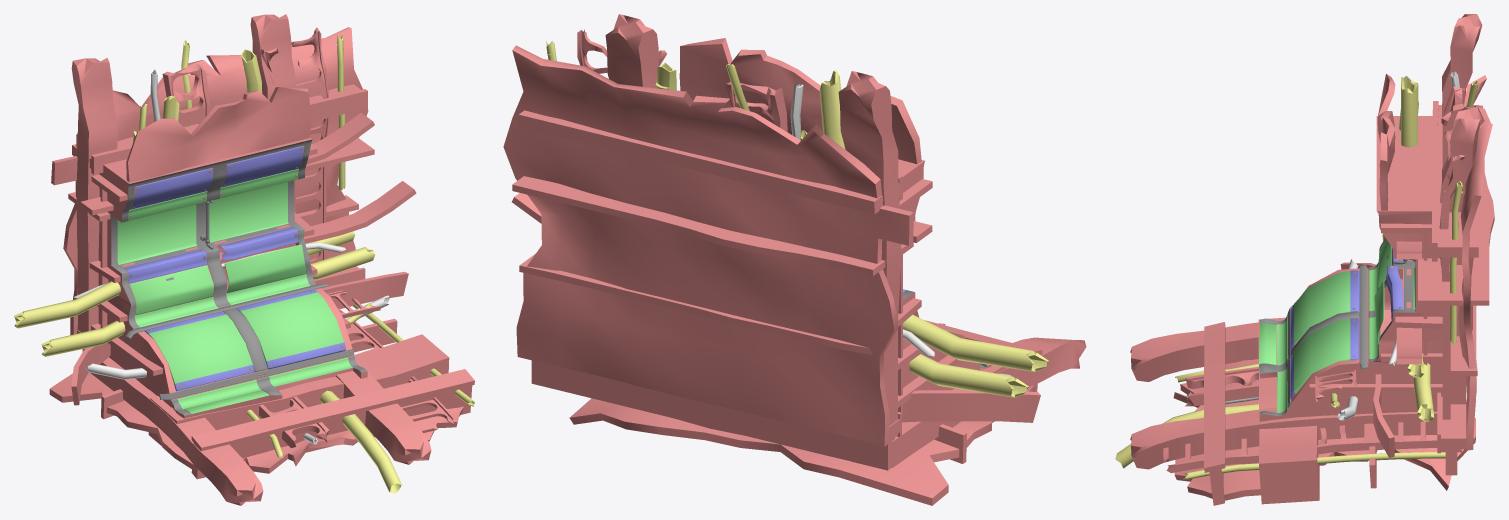
Rendered from SM_CruiserWallWreck_01.gltf.
3 views of the same model, side by side, from view 1: azimuth 30°, elevation 25°; view 2: azimuth 150°, elevation 25°; view 3: azimuth 270°, elevation 25° (orthographic). The views are drawn at different scales.
Visible parts, largest first — view 1: SM_CruiserWallWreck_01; view 2: SM_CruiserWallWreck_01; view 3: SM_CruiserWallWreck_01.
Part boxes in pixels (left/top/right/bottom): SM_CruiserWallWreck_01: left=14, top=14, right=474, bottom=505; SM_CruiserWallWreck_01: left=503, top=14, right=1086, bottom=505; SM_CruiserWallWreck_01: left=1115, top=14, right=1494, bottom=505.
Bounding box in the file's own units: 8.75 × 7.38 × 6.74.
